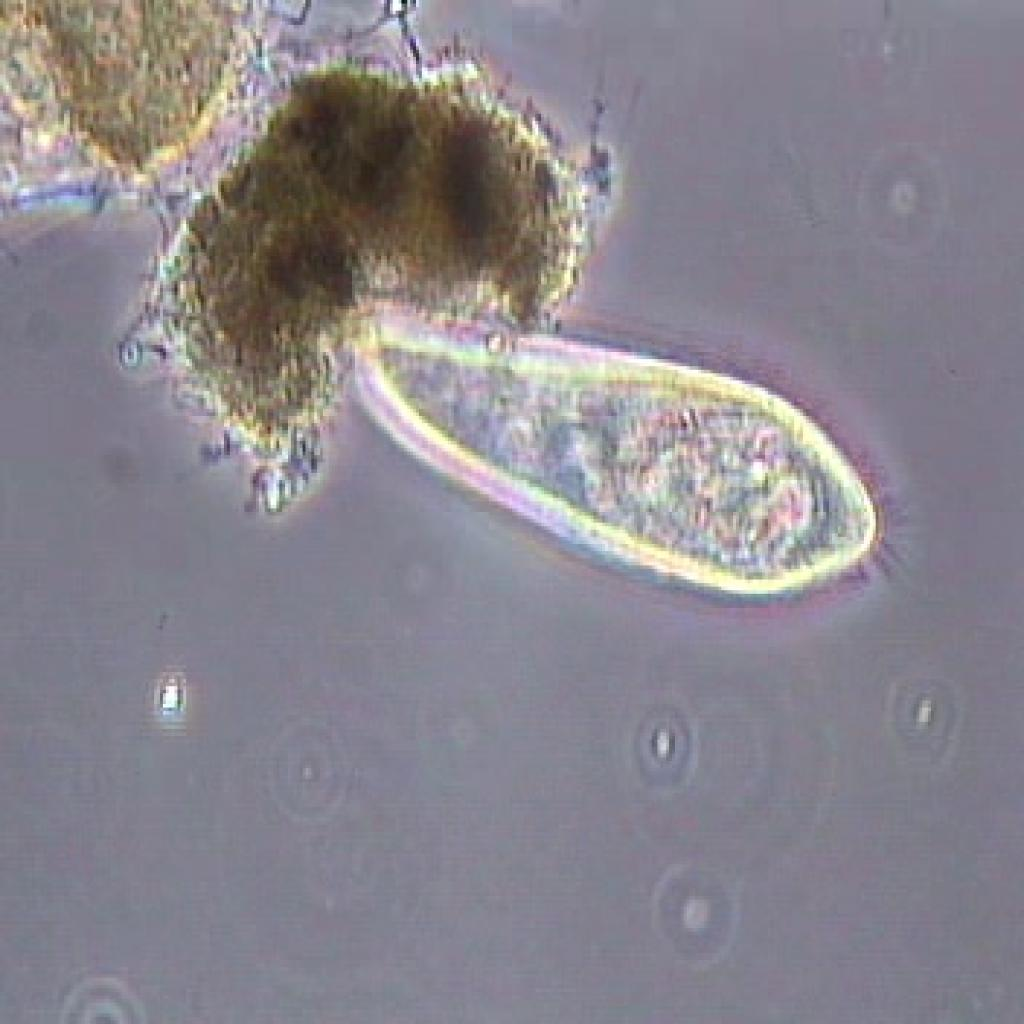Paramecium: (330, 284, 976, 630)
